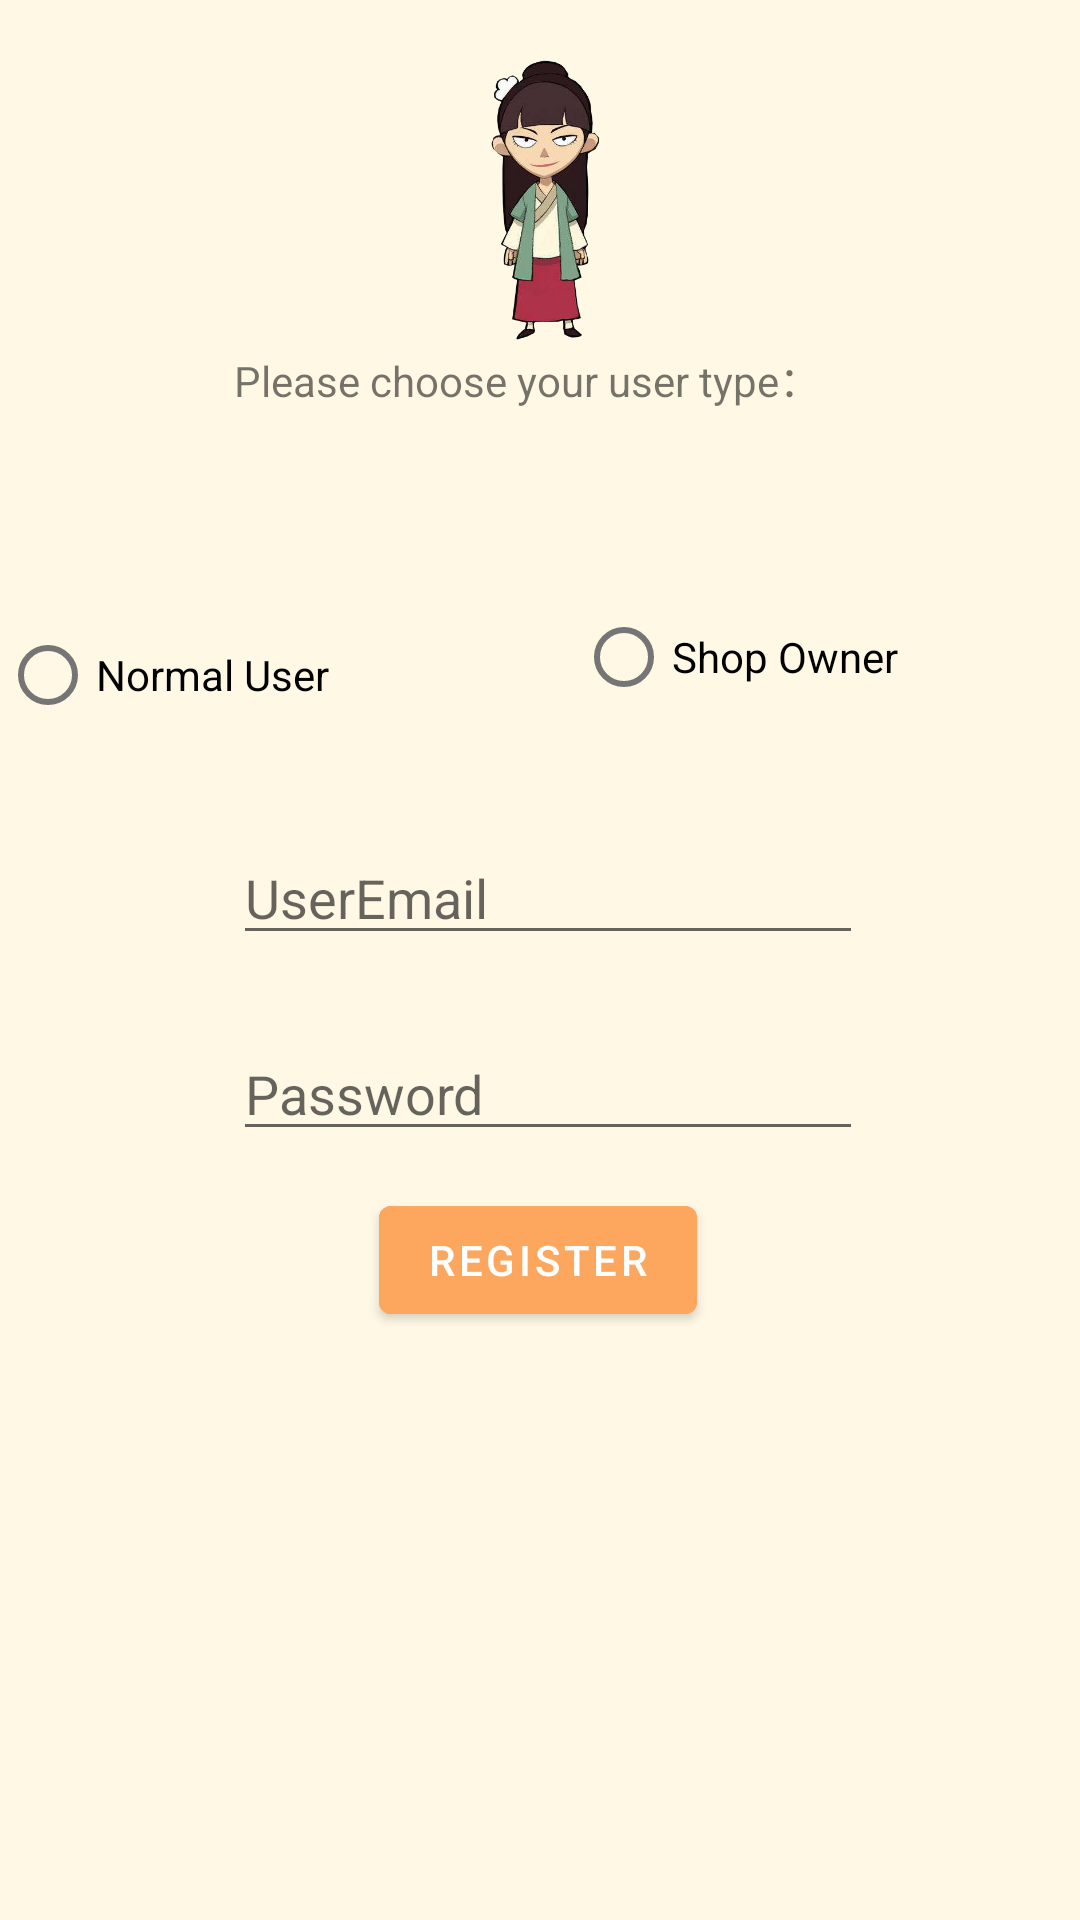

Icon bounding boxes for this 1080px x 1920px phone screenshot, format (x1, y1, x2, y2):
profile: (491, 60, 599, 340)
